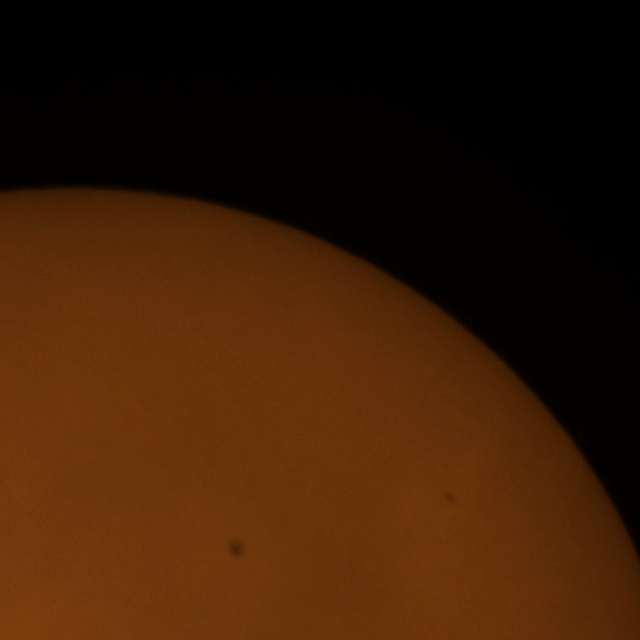sunspot: (226, 538, 247, 560)
